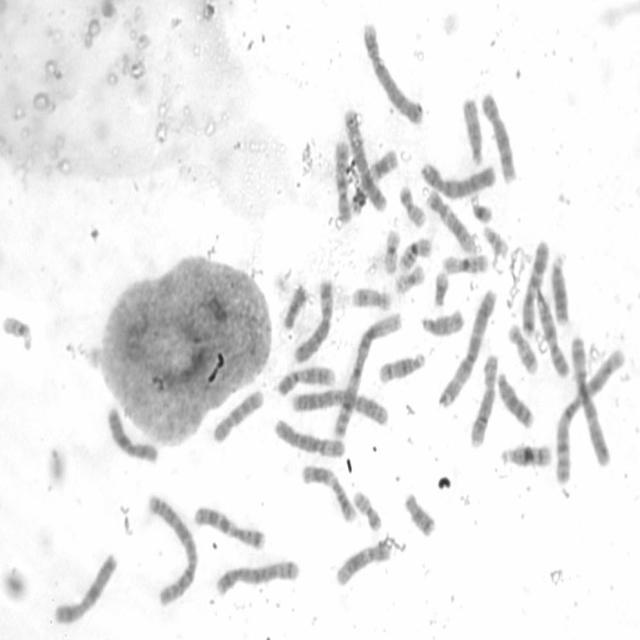A1: (552, 340, 626, 488), (331, 310, 404, 440)
A2: (144, 489, 198, 608), (289, 387, 390, 428)
A3: (436, 285, 497, 410), (567, 332, 618, 465)
B4: (360, 19, 426, 126), (419, 158, 496, 199)
B5: (342, 106, 388, 214), (213, 556, 301, 599)
C10: (210, 386, 265, 444), (332, 136, 353, 224)
C11: (299, 461, 358, 524), (349, 145, 399, 216)
C12: (424, 186, 480, 255), (333, 539, 391, 588)
C6: (291, 274, 335, 365), (272, 414, 346, 458)
C7: (192, 503, 267, 551), (520, 236, 550, 339)
C8: (479, 88, 517, 184), (467, 351, 499, 449)
C9: (534, 286, 570, 379), (274, 362, 338, 399)
D13: (494, 367, 536, 430), (549, 249, 571, 326)
D14: (376, 349, 427, 386), (500, 441, 549, 472)
D15: (460, 94, 484, 166), (418, 306, 466, 338)
E16: (397, 234, 432, 274), (441, 250, 489, 276)
E17: (506, 321, 539, 375), (348, 284, 392, 312)
E18: (402, 489, 437, 538), (280, 282, 308, 330)
F19: (392, 261, 426, 296), (381, 226, 401, 276)
F20: (350, 488, 382, 532), (397, 182, 426, 228)
G21: (468, 190, 494, 225), (431, 268, 449, 308)
G22: (1, 313, 34, 353), (481, 223, 509, 258)
X: (52, 549, 118, 626), (104, 401, 160, 464)
